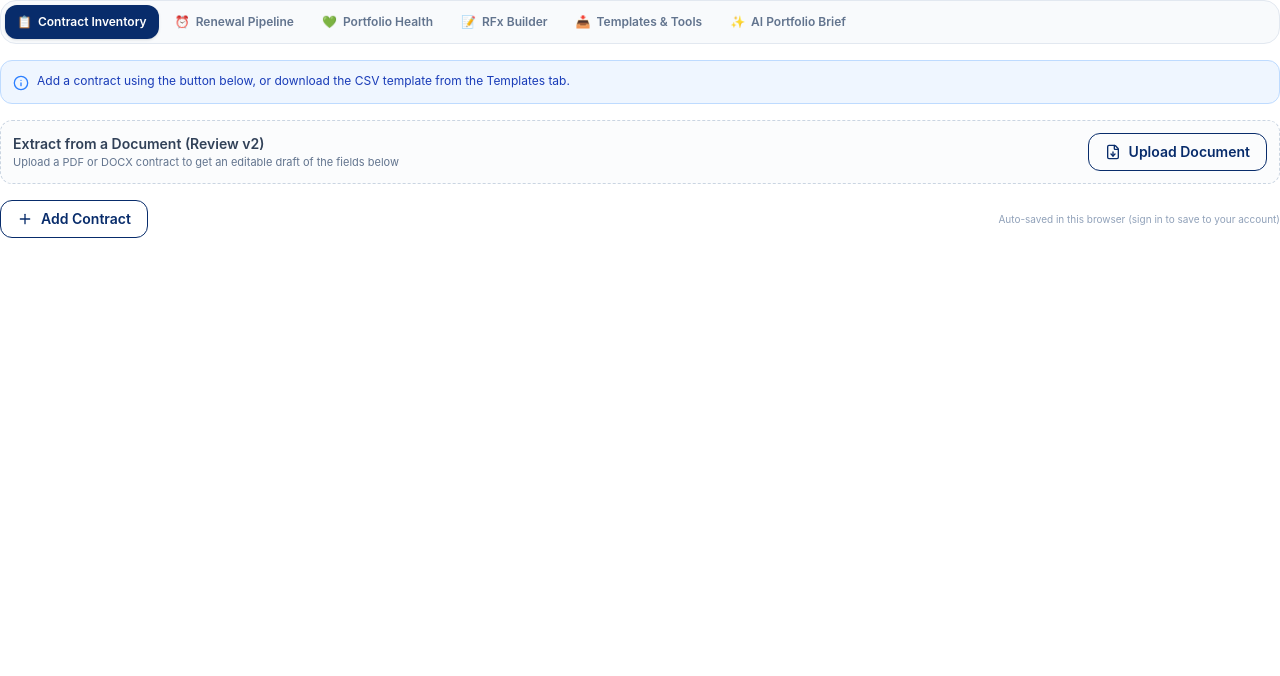
Test: #385 UNSPSC Class/Commodity searchable lookup › returns exactly one result for an exact commodity-code query
Click the button "Add Contract" at (74, 219), box 0,200 -> 148,238
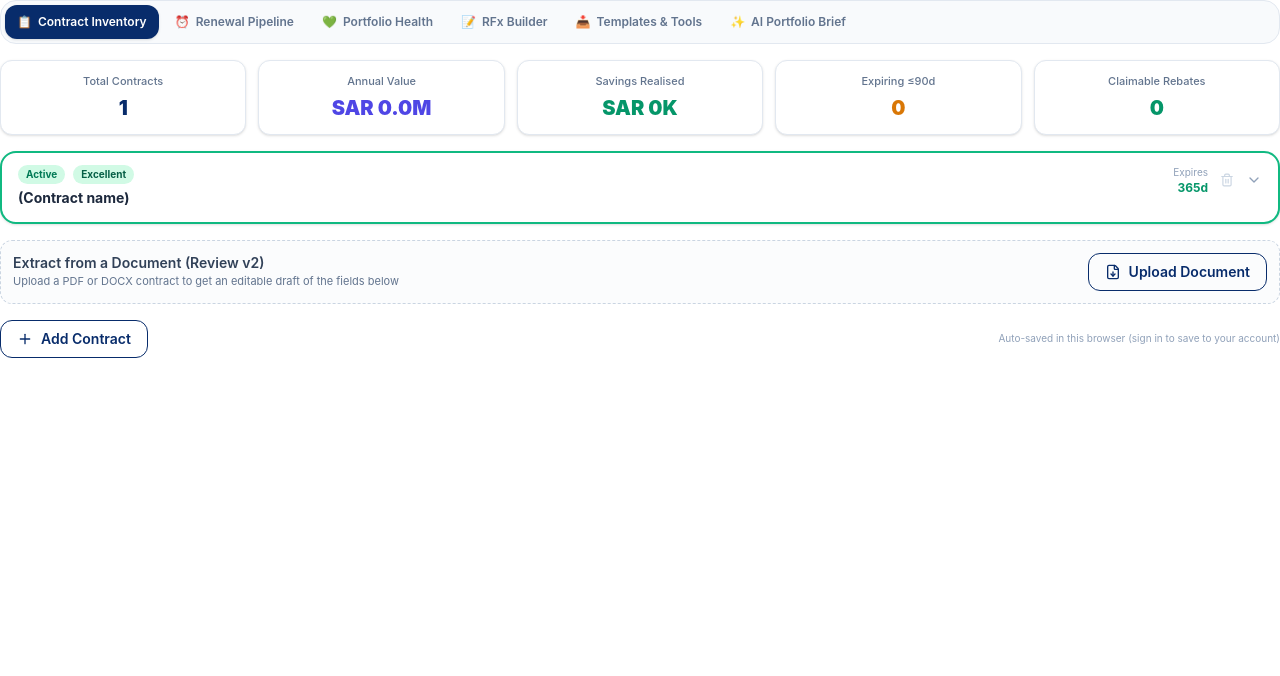
Click the text "(Contract name)" at (74, 197), box 18,188 -> 130,206
(page scrolled)
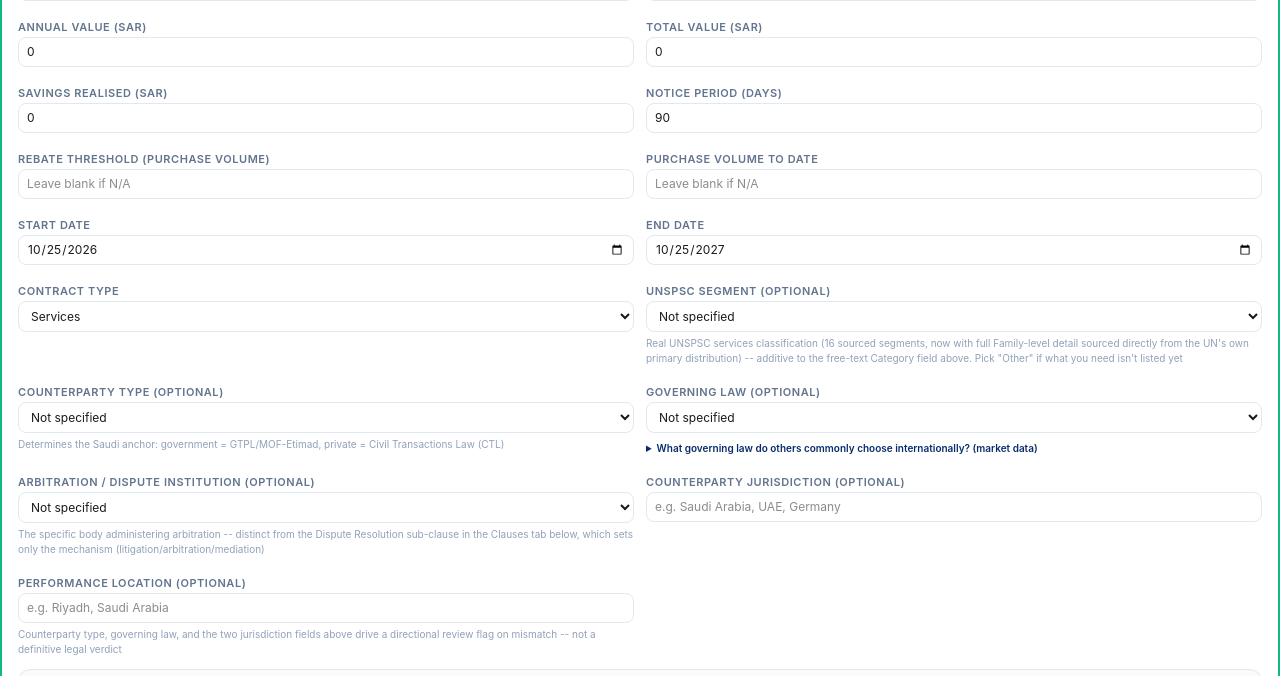
Select "80 -- Management, Business Professionals and Administrative Services" in the dropdown labelled "UNSPSC Segment (optional)" at (954, 316), box 646,300 -> 1262,332
(page scrolled)
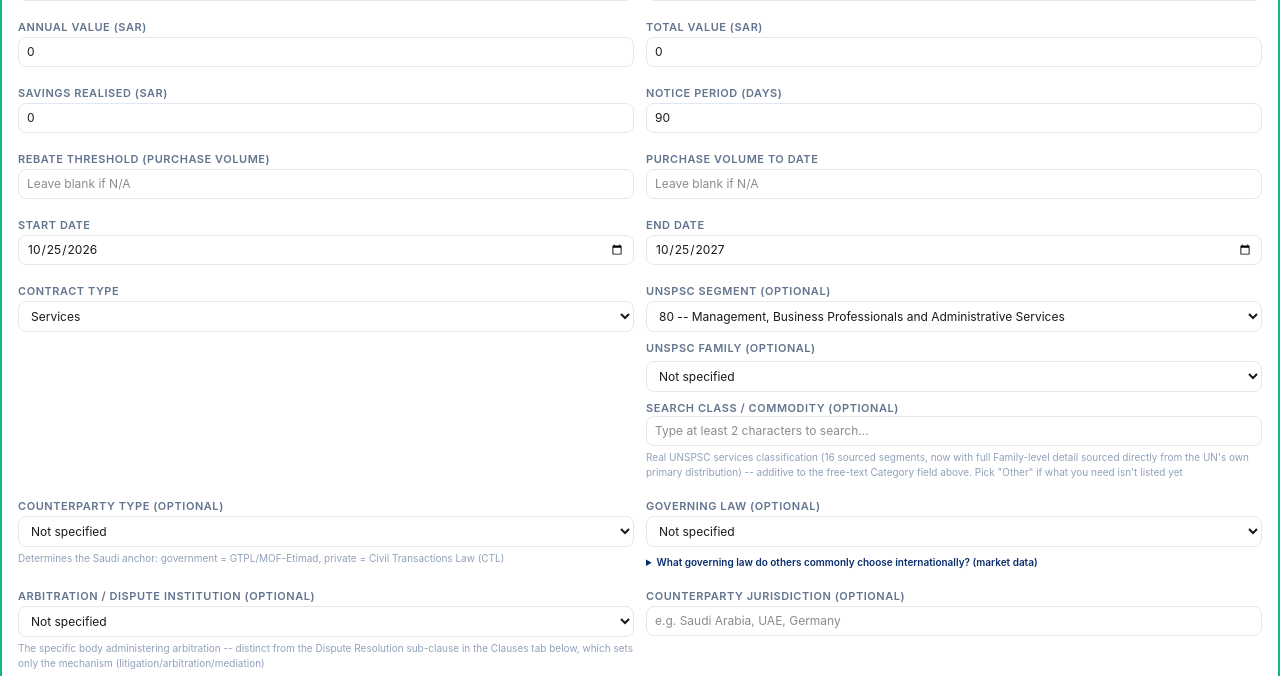
Type "80111701" into the field labelled "Search Class / Commodity (optional)" at (954, 431), box 646,416 -> 1262,446
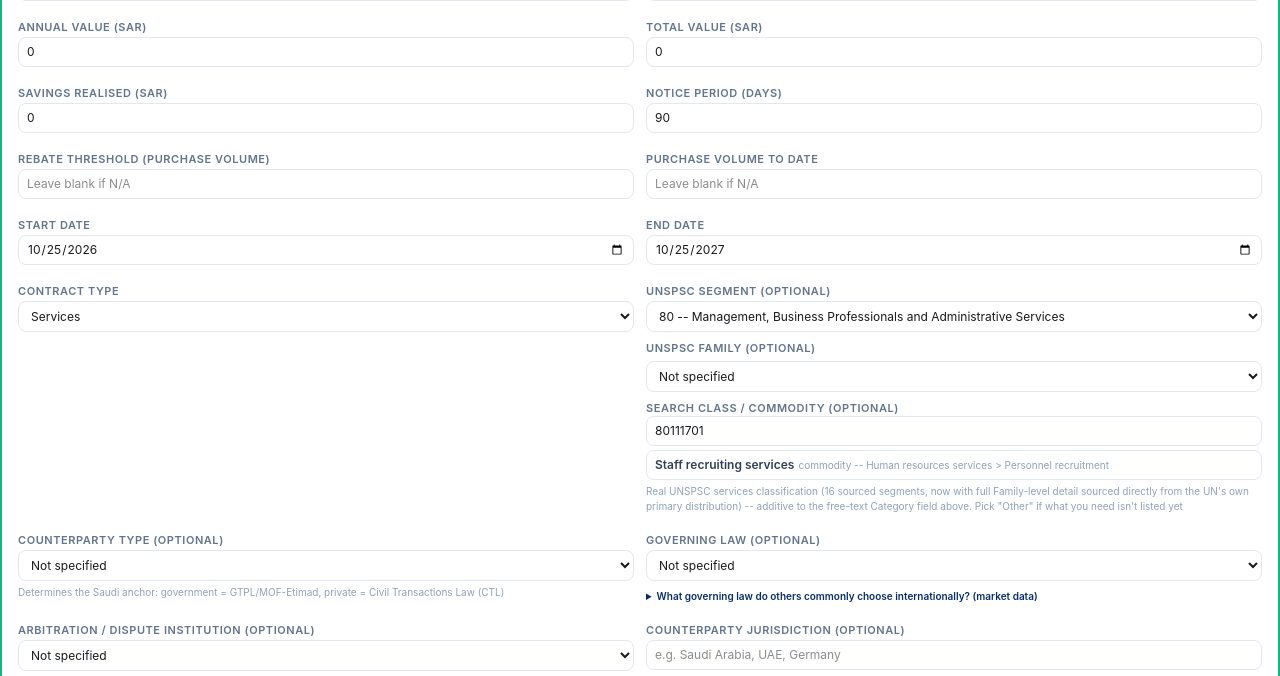
Result: the text "Staff recruiting services" is shown at 655,457 -> 794,472
